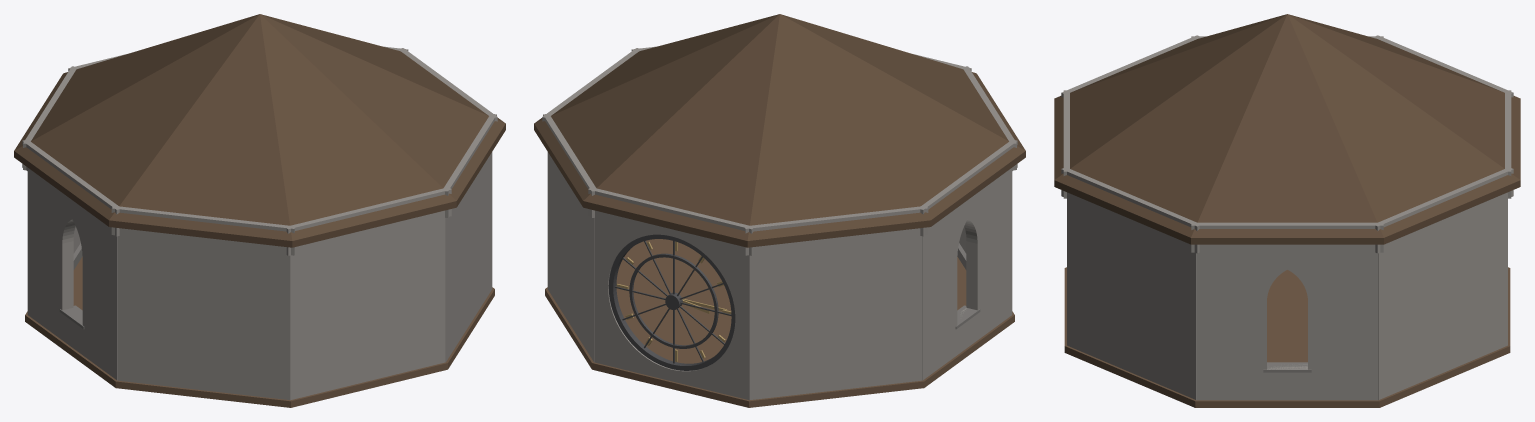
Rendered from Clocktower_Room.fbx.
3 views of the same model, side by side, from view 1: azimuth 30°, elevation 25°; view 2: azimuth 150°, elevation 25°; view 3: azimuth 270°, elevation 25° (orthographic).
Visible parts, largest first — view 1: Clocktower_RoofShell, Clocktower_Walls, Clocktower_Floor, Clocktower_Trim; view 2: Clocktower_RoofShell, Clocktower_Walls, Clocktower_Floor, Clocktower_ClockDial, Clocktower_ClockHands, Clocktower_Trim; view 3: Clocktower_RoofShell, Clocktower_Walls, Clocktower_Floor, Clocktower_Trim.
Part boxes in pixels (box(x1,y1,x2,y2)): Clocktower_RoofShell: box(14, 14, 505, 247); Clocktower_Walls: box(22, 46, 497, 400); Clocktower_Floor: box(25, 257, 494, 407); Clocktower_Trim: box(59, 243, 84, 329); Clocktower_RoofShell: box(534, 14, 1025, 247); Clocktower_Walls: box(542, 46, 1017, 400); Clocktower_Floor: box(545, 239, 1014, 407); Clocktower_ClockDial: box(608, 234, 735, 370); Clocktower_ClockHands: box(616, 241, 731, 361); Clocktower_Trim: box(955, 243, 980, 329); Clocktower_RoofShell: box(1054, 14, 1520, 244); Clocktower_Walls: box(1061, 35, 1513, 400); Clocktower_Floor: box(1064, 267, 1510, 407); Clocktower_Trim: box(1263, 362, 1311, 372).
Size of what is drawn, in the model's own units: 12.47 by 8.85 by 12.47.
